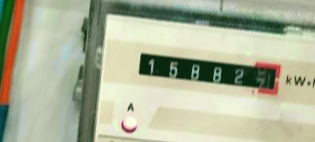1: (144, 55, 156, 74)
2: (231, 65, 244, 85)
5: (165, 59, 179, 77)
7: (253, 75, 265, 88)
8: (186, 61, 201, 79), (209, 63, 223, 82)
screen: (127, 40, 287, 102)
